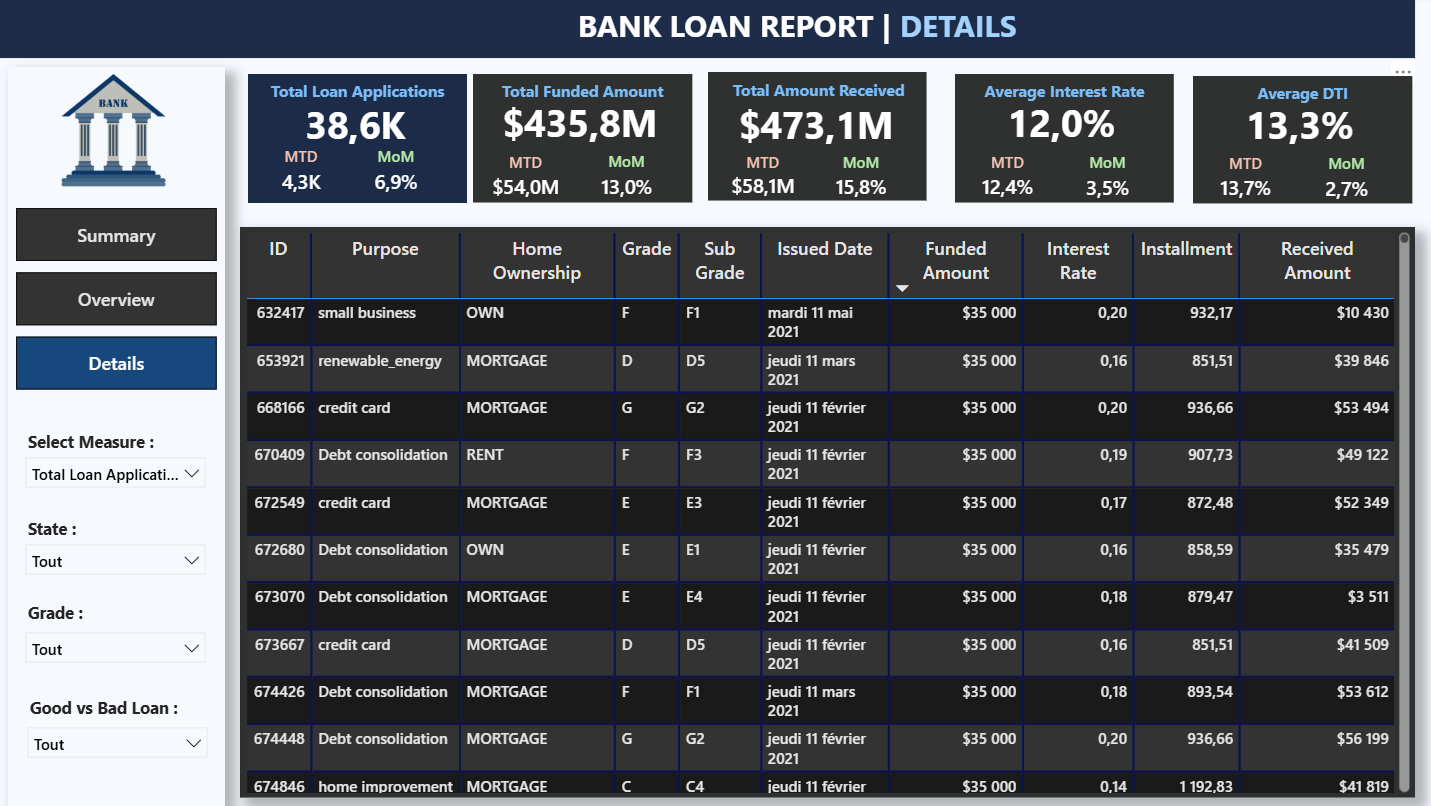

Layout of this report page (visuals, bound fields, positions):
{"tool":"powerbi","page":{"name":"Details","canvas":[1280,720],"ordinal":2},"visuals":[{"type":"shape","box":[629.2,66.4,193.8,114.2],"z":0,"group":"g2"},{"type":"shape","box":[221.7,68.3,194.3,114.3],"z":0,"group":"g6"},{"type":"shape","box":[421.4,68.6,194.5,114],"z":0,"group":"g1"},{"type":"shape","box":[848.8,68.6,194.2,114.3],"z":0,"group":"g3"},{"type":"shape","box":[1059.3,69.8,194.5,113.1],"z":0,"group":"g4"},{"type":"shape","box":[214.7,203.7,1041.9,506.5],"z":0},{"type":"shape","box":[0,0,1257,54.7],"z":1000},{"type":"card","fields":{"Values":["table_measures.total_loan_appl"]},"box":[254.6,82.9,124.3,61.3],"z":1000,"group":"g6"},{"type":"card","fields":{"Values":["table_measures.total_funded_amt"]},"box":[433.2,83.2,165.9,58.4],"z":1000,"group":"g1"},{"type":"card","fields":{"Values":["table_measures.avg_interest_rate"]},"box":[860.6,83.2,165.6,58.6],"z":1000,"group":"g3"},{"type":"card","fields":{"Values":["table_measures.avg_DTI"]},"box":[1071.1,84.3,165.9,57.9],"z":1000,"group":"g4"},{"type":"card","fields":{"Values":["table_measures.total_received_amt"]},"box":[643.2,85.3,163.1,55.8],"z":1000,"group":"g2"},{"type":"shape","box":[8.9,61.7,191.9,655.8],"z":2000,"group":"g5"},{"type":"textbox","box":[632.2,67,191,41.6],"z":2000,"group":"g2"},{"type":"textbox","box":[221.7,68.3,194.3,39],"z":2000,"group":"g6"},{"type":"textbox","box":[421.4,68.6,194.5,38.9],"z":2000,"group":"g1"},{"type":"textbox","box":[848.8,68.6,194.2,39],"z":2000,"group":"g3"},{"type":"textbox","box":[1059.3,69.8,194.5,38.6],"z":2000,"group":"g4"},{"type":"card","title":"MTD","fields":{"Values":["table_measures.MTD_loan_appl"]},"box":[243.1,132.4,51.4,50.2],"z":3000,"group":"g6"},{"type":"card","title":"MTD","fields":{"Values":["table_measures.MTD_received_amt"]},"box":[643.2,137.1,68.9,46.5],"z":3000,"group":"g2"},{"type":"card","title":"MTD","fields":{"Values":["table_measures.MTD_funded_amt"]},"box":[433.2,137.4,70.1,48.6],"z":3000,"group":"g1"},{"type":"card","title":"MTD","fields":{"Values":["table_measures.MTD_interest_rate"]},"box":[860.6,137.6,70,48.8],"z":3000,"group":"g3"},{"type":"card","title":"MTD","fields":{"Values":["table_measures.MTD_avg_DTI"]},"box":[1071.1,138.1,70.1,48.3],"z":3000,"group":"g4"},{"type":"textbox","box":[21.3,455.8,119.7,38.5],"z":3000,"group":"g5"},{"type":"textbox","box":[509.2,1.4,447.3,49.5],"z":4000},{"type":"card","title":"MoM","fields":{"Values":["table_measures.MOM_loan_appl"]},"box":[327.4,132.4,51.4,50.2],"z":4000,"group":"g6"},{"type":"card","title":"MoM","fields":{"Values":["table_measures.MOM_received_amt"]},"box":[736.7,136.9,56.8,47.5],"z":4000,"group":"g2"},{"type":"card","title":"MoM","fields":{"Values":["table_measures.MOM_funded_amt"]},"box":[528.3,137.2,57.8,49.7],"z":4000,"group":"g1"},{"type":"card","title":"MoM","fields":{"Values":["table_measures.MOM_interest_rate"]},"box":[955.6,137.4,57.7,49.8],"z":4000,"group":"g3"},{"type":"card","title":"MoM","fields":{"Values":["table_measures.MOM_avg_DTI"]},"box":[1166.2,137.9,57.8,49.3],"z":4000,"group":"g4"},{"type":"group","id":"g1","title":"Group 1","box":[421.4,68.6,194.3,118],"z":6000},{"type":"group","id":"g2","title":"Group 1","box":[629.2,66.4,194,118],"z":7000},{"type":"group","id":"g3","title":"Group 1","box":[848.8,68.6,194.2,118.6],"z":8000},{"type":"group","id":"g4","title":"Group 1","box":[1059.3,69.8,194.2,117.4],"z":9000},{"type":"slicer","fields":{"Values":["financial_loan.address_state"]},"box":[14.4,475,180.3,50.9],"z":11000,"group":"g5"},{"type":"slicer","fields":{"Values":["financial_loan.grade"]},"box":[14.4,553.5,180.3,50.9],"z":12000,"group":"g5"},{"type":"textbox","box":[21.3,530.1,119.7,38.5],"z":13000,"group":"g5"},{"type":"slicer","fields":{"Values":["financial_loan.Good vs Band Loan"]},"box":[15.8,637.4,180.3,50.9],"z":14000,"group":"g5"},{"type":"tableEx","fields":{"Values":["financial_loan.id","financial_loan.purpose","financial_loan.home_ownership","financial_loan.grade","financial_loan.sub_grade","financial_loan.issue_date","table_measures.total_funded_amt","Sum(financial_loan.int_rate)","Sum(financial_loan.installment)","table_measures.total_received_amt"]},"box":[214.7,203.7,1041.9,506.5],"z":15000},{"type":"textbox","box":[22.7,614,163.8,38.5],"z":15000,"group":"g5"},{"type":"slicer","fields":{"Values":["Select Measure.Select Measure"]},"box":[14.4,397.9,180.3,55.1],"z":17000,"group":"g5"},{"type":"group","id":"g5","title":"Groupe 1","box":[8.9,51.4,191.5,665.9],"z":17001},{"type":"group","id":"g6","title":"Group 1","box":[221.7,68.3,194.2,114.4],"z":17002},{"type":"textbox","box":[21.3,378.7,139,38.5],"z":23000,"group":"g5"},{"type":"pageNavigator","box":[15.8,187.4,178.9,163.8],"z":28000,"group":"g5"},{"type":"image","box":[8.9,51.4,187.1,133],"z":29000,"group":"g5"}]}

Visuals, with their boxes in screenshot pixels (x1, y1, x2, y2), scaled from the page's 1280x720 canvas onto the 1431x806 screenshot:
shape: (703, 74, 920, 202)
shape: (248, 76, 465, 204)
shape: (471, 77, 689, 204)
shape: (949, 77, 1166, 205)
shape: (1184, 78, 1402, 205)
shape: (240, 228, 1405, 795)
shape: (0, 0, 1405, 61)
card - table_measures.total_loan_appl: (285, 93, 424, 161)
card - table_measures.total_funded_amt: (484, 93, 670, 159)
card - table_measures.avg_interest_rate: (962, 93, 1147, 159)
card - table_measures.avg_DTI: (1197, 94, 1383, 159)
card - table_measures.total_received_amt: (719, 95, 901, 158)
shape: (10, 69, 224, 803)
textbox: (707, 75, 920, 122)
textbox: (248, 76, 465, 120)
textbox: (471, 77, 689, 120)
textbox: (949, 77, 1166, 120)
textbox: (1184, 78, 1402, 121)
"MTD" card: (272, 148, 329, 204)
"MTD" card: (719, 153, 796, 206)
"MTD" card: (484, 154, 563, 208)
"MTD" card: (962, 154, 1040, 209)
"MTD" card: (1197, 155, 1276, 209)
textbox: (24, 510, 158, 553)
textbox: (569, 2, 1069, 57)
"MoM" card: (366, 148, 423, 204)
"MoM" card: (824, 153, 887, 206)
"MoM" card: (591, 154, 655, 209)
"MoM" card: (1068, 154, 1133, 210)
"MoM" card: (1304, 154, 1368, 210)
"Group 1" group: (471, 77, 688, 209)
"Group 1" group: (703, 74, 920, 206)
"Group 1" group: (949, 77, 1166, 210)
"Group 1" group: (1184, 78, 1401, 210)
slicer - financial_loan.address_state: (16, 532, 218, 589)
slicer - financial_loan.grade: (16, 620, 218, 677)
textbox: (24, 593, 158, 637)
slicer - financial_loan.Good vs Band Loan: (18, 714, 219, 771)
tableEx - financial_loan.id x financial_loan.purpose: (240, 228, 1405, 795)
textbox: (25, 687, 209, 730)
slicer - Select Measure.Select Measure: (16, 445, 218, 507)
"Groupe 1" group: (10, 58, 224, 803)
"Group 1" group: (248, 76, 465, 205)
textbox: (24, 424, 179, 467)
pageNavigator: (18, 210, 218, 393)
image: (10, 58, 219, 206)
